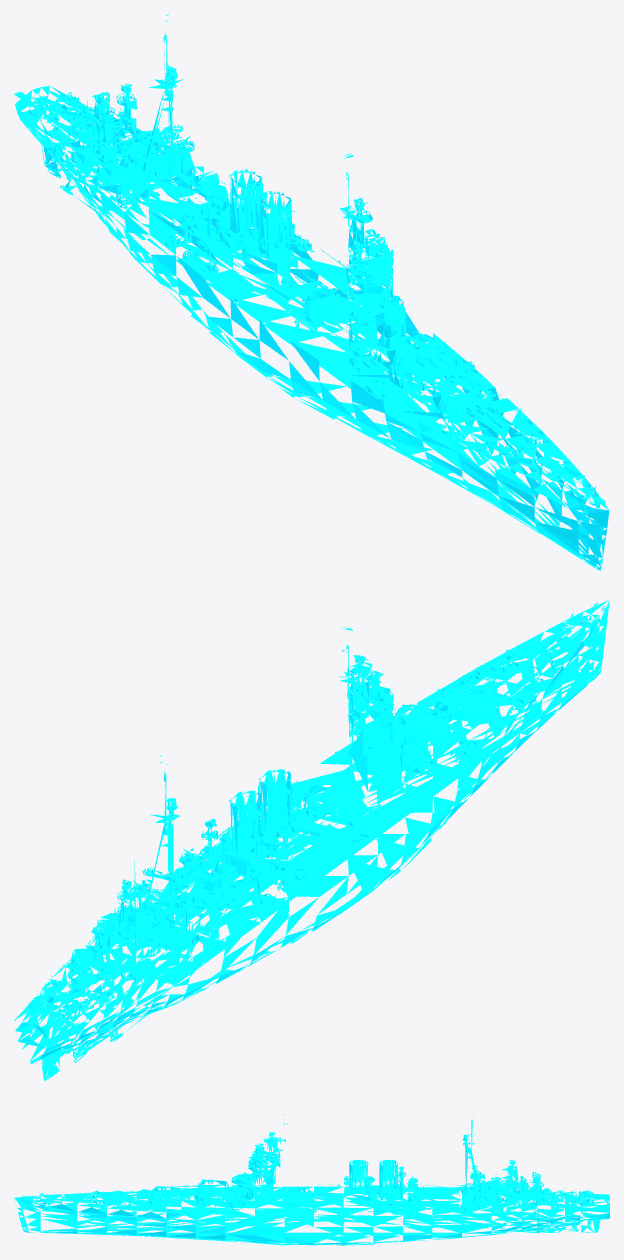
File: St_Lawrence.glb
3 renders of one model, top to bottom at view 1: azimuth 30°, elevation 25°; view 2: azimuth 150°, elevation 25°; view 3: azimuth 270°, elevation 25°, orthographic. The views are drawn at different scales.
Size of the model in its own units: 2.22 by 4.21 by 18.67.
